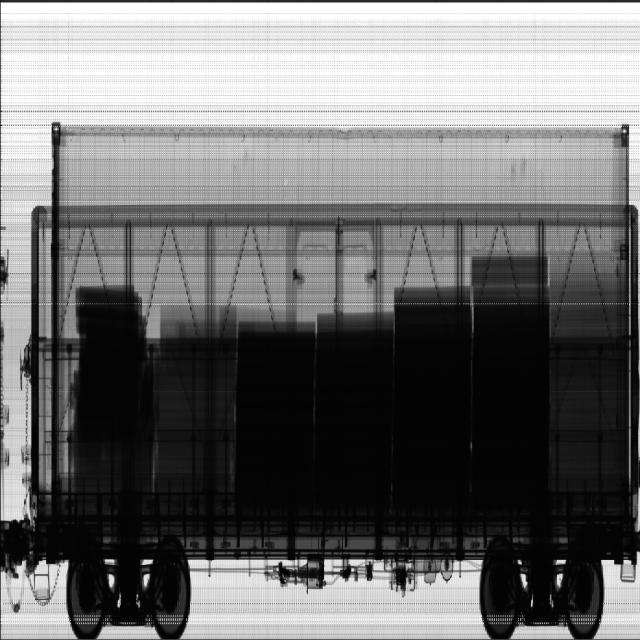fabrics: (67, 256, 622, 512)
